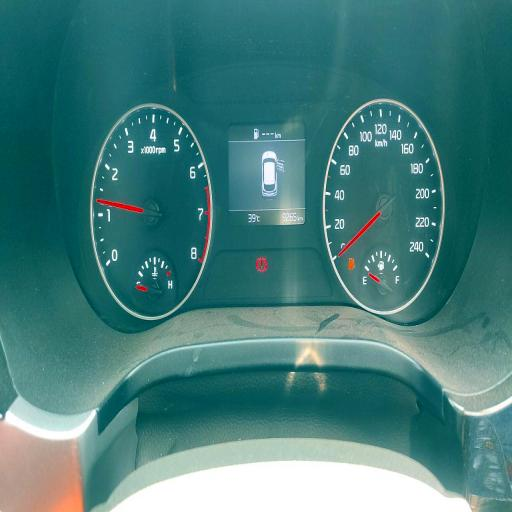brake_system_fault: (256, 257, 268, 273)
tachometer: (89, 103, 214, 318)
